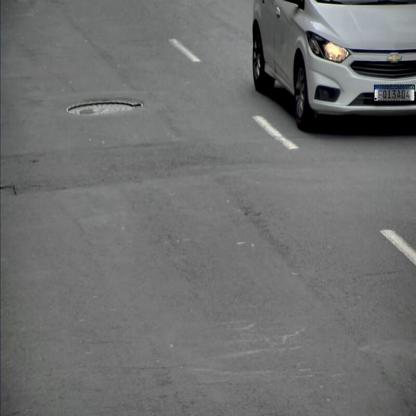PlacaM: (374, 85, 415, 101)
